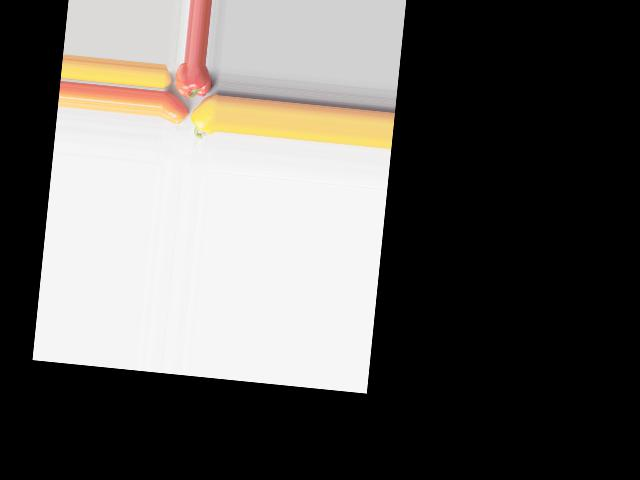bell_pepper: (173, 62, 214, 100)
